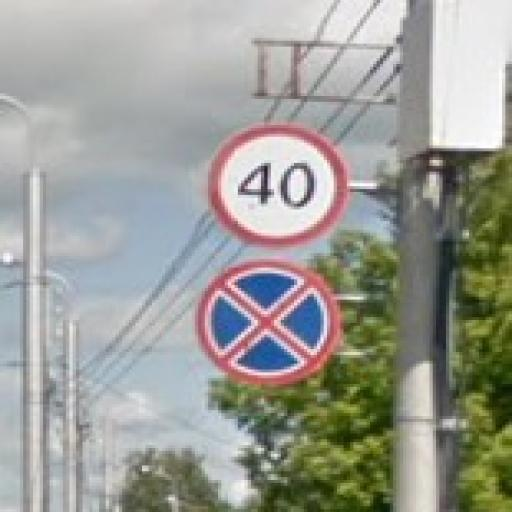traffic_sign: (196, 260, 341, 385), (209, 123, 348, 248)
